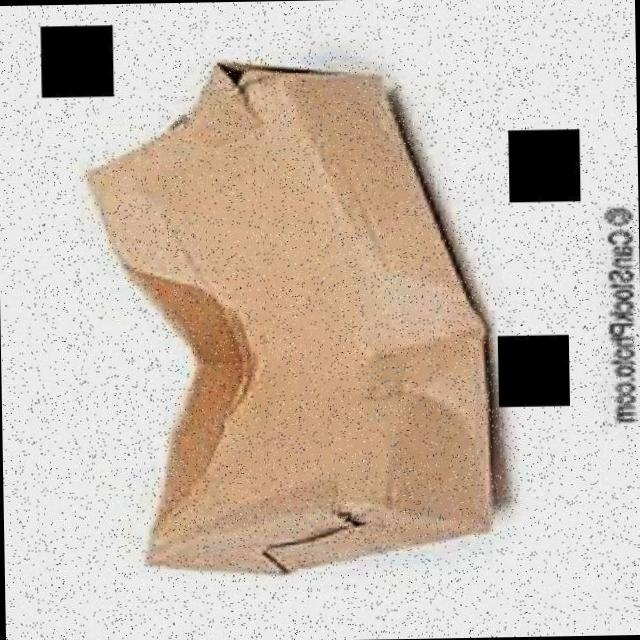box: (72, 52, 514, 578)
